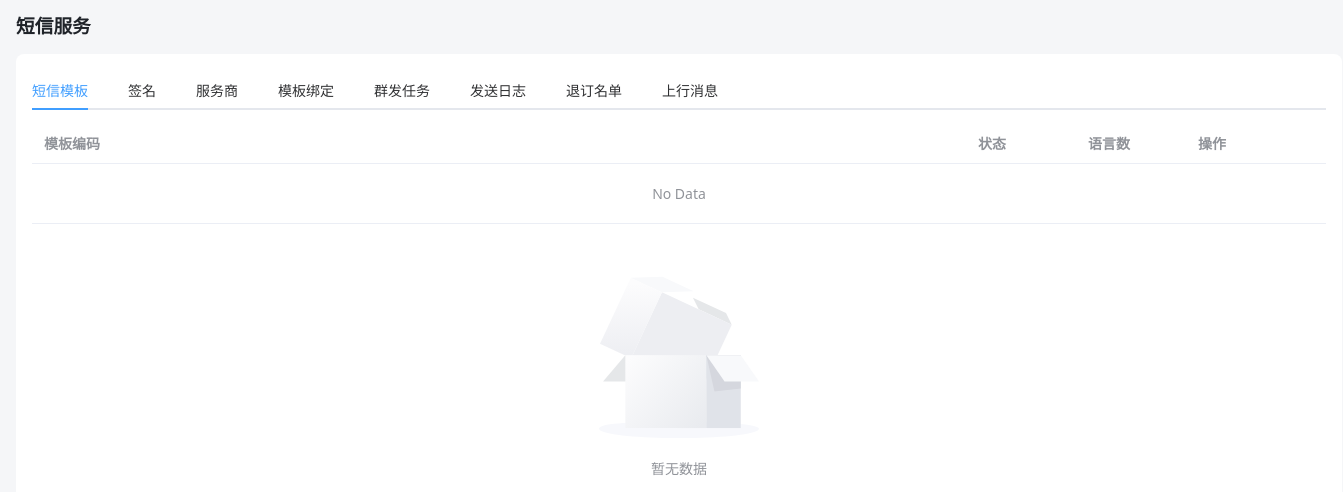
Scenario: SmsView › 切换到发送日志页签并加载日志
Click the tab "发送日志".
click(498, 90)  # box [470, 81, 526, 100]
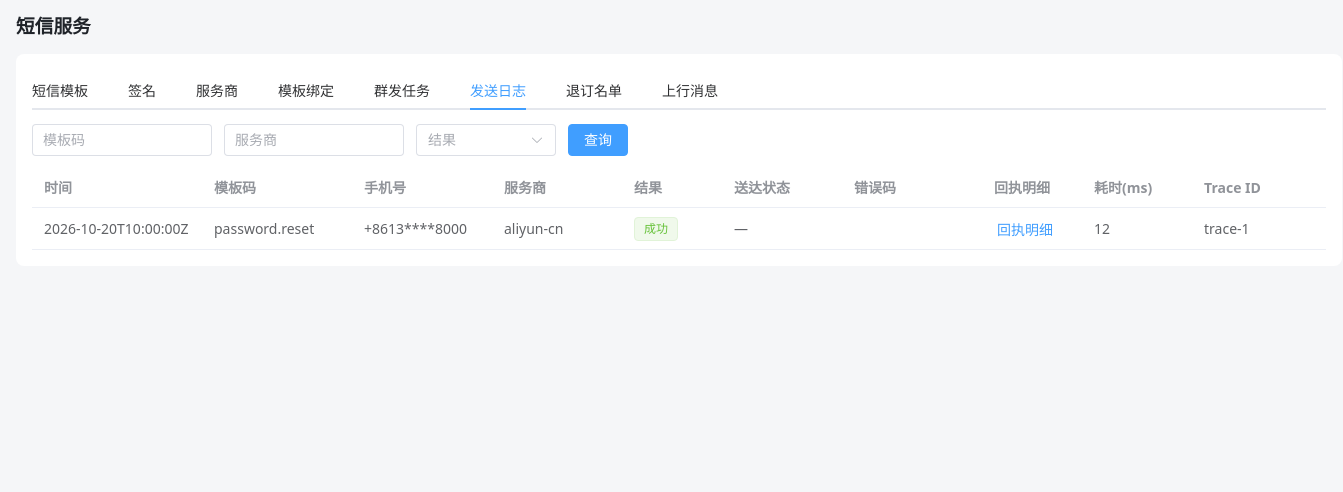
expect the text "+8613****8000" is shown: met, box [364, 219, 467, 238]
